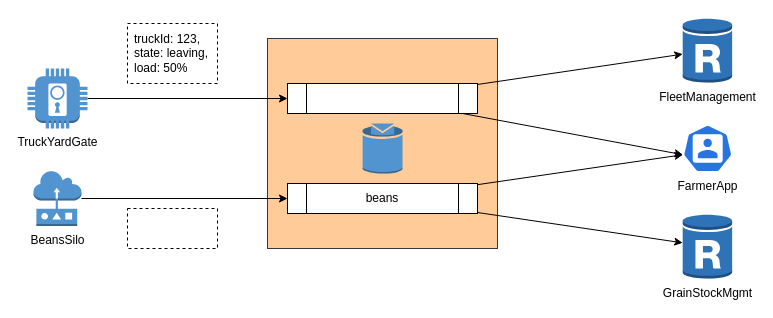
Image size: 773x318. Some labels were removed from this diagram. The shapes that lost their labels are listed below. From the top down, each one's box as (x1, y1, x2, y2) in pixels, then its label:
(286, 82, 478, 114): trucks
(266, 38, 498, 248): RabbitMQ
(126, 208, 218, 248): load: 70%
